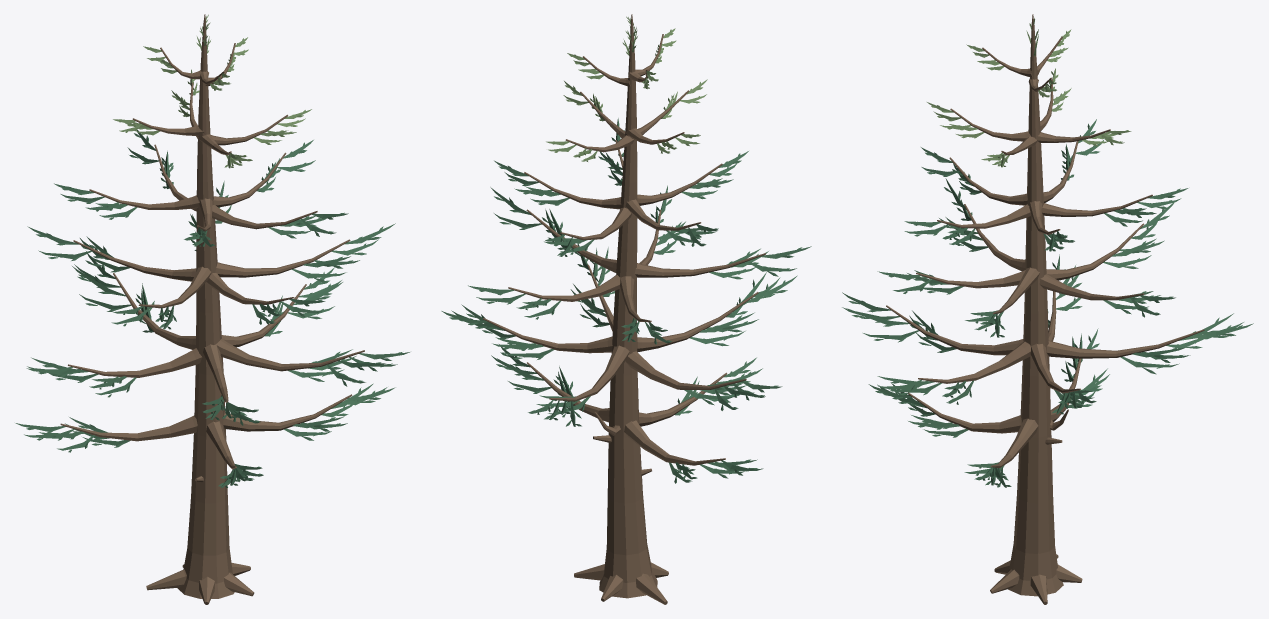
File: conifer-tree.glb
The picture shows the model from 3 angles, left to right: view 1: azimuth 30°, elevation 25°; view 2: azimuth 150°, elevation 25°; view 3: azimuth 270°, elevation 25°; orthographic projection.
Visible parts, largest first — view 1: Conifer | editable woody axis boughs and collars, Conifer | clustered narrow needle-bearing shoots; view 2: Conifer | editable woody axis boughs and collars, Conifer | clustered narrow needle-bearing shoots; view 3: Conifer | editable woody axis boughs and collars, Conifer | clustered narrow needle-bearing shoots.
Part boxes in pixels (left/top/right/bottom): Conifer | editable woody axis boughs and collars: left=60, top=14, right=364, bottom=604; Conifer | clustered narrow needle-bearing shoots: left=15, top=14, right=409, bottom=487; Conifer | editable woody axis boughs and collars: left=483, top=14, right=765, bottom=604; Conifer | clustered narrow needle-bearing shoots: left=441, top=16, right=811, bottom=483; Conifer | editable woody axis boughs and collars: left=886, top=14, right=1204, bottom=604; Conifer | clustered narrow needle-bearing shoots: left=842, top=18, right=1253, bottom=487.
Bounding box in the file's own units: 4.26 × 7.04 × 4.64.
